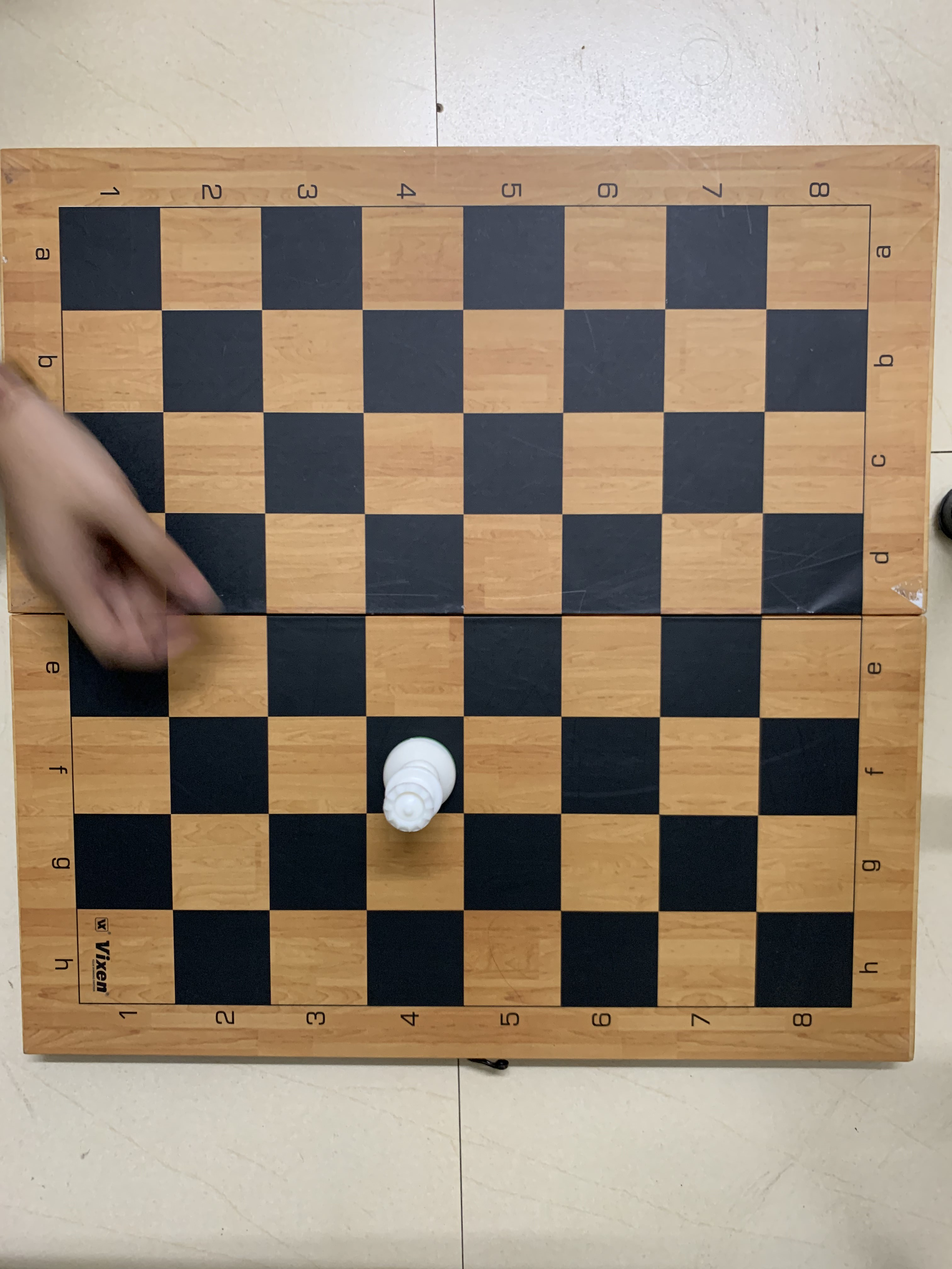white_queen: (363, 709, 465, 833)
